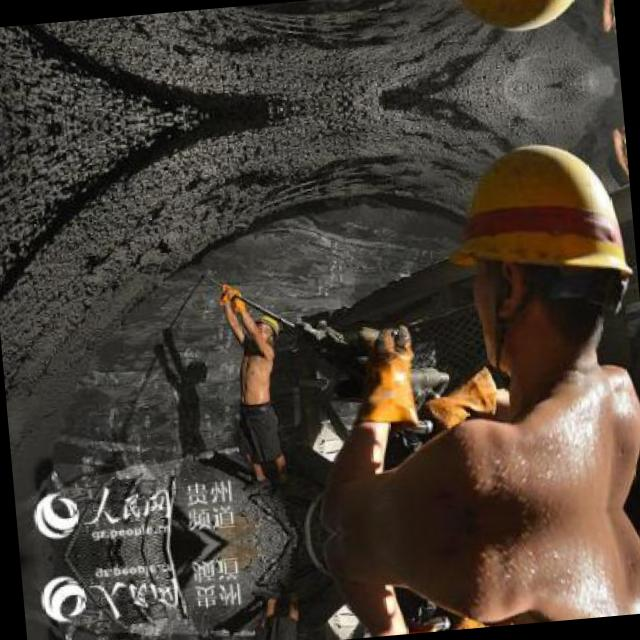helmet: (438, 122, 637, 412), (425, 0, 607, 54), (250, 309, 280, 347)
